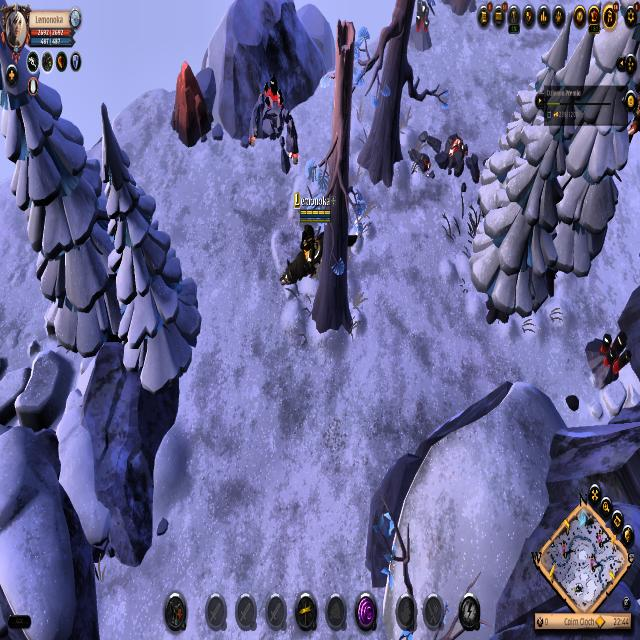fiber tier 5: (169, 61, 212, 150)
ore tier 5: (587, 327, 630, 390), (411, 2, 432, 52)
